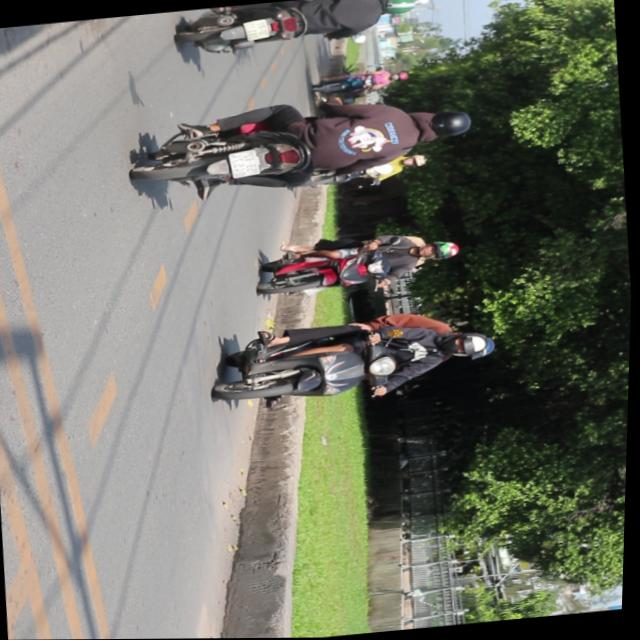helmet: (415, 107, 476, 144), (445, 331, 495, 361), (423, 240, 463, 262), (380, 0, 418, 17)
licenseplate: (130, 83, 483, 207), (209, 303, 501, 414), (253, 225, 465, 302), (177, 0, 422, 60)
nohelmet: (228, 147, 264, 178), (243, 18, 272, 40)
